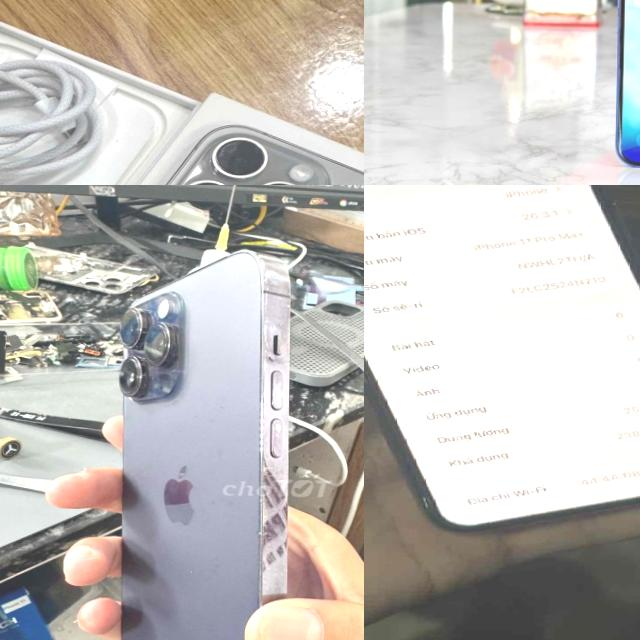gen_11: (364, 185, 640, 531)
gen_14: (88, 239, 321, 640)
gen_15: (0, 100, 364, 185)
scratch: (252, 320, 289, 542), (264, 258, 292, 300), (146, 359, 166, 384), (130, 339, 146, 350)
